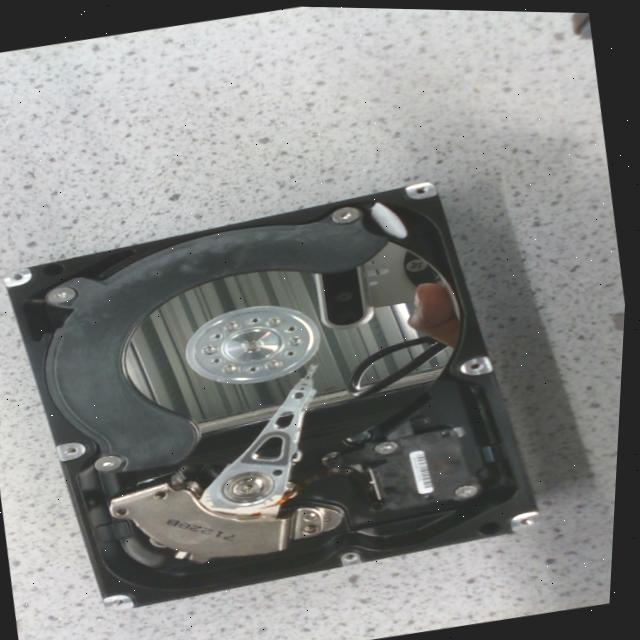actuator arm: (211, 362, 320, 511)
actuator axis: (237, 474, 268, 494)
case: (8, 177, 543, 608)
magnet: (116, 481, 295, 561)
pcb connector: (369, 425, 485, 505)
platter: (129, 239, 456, 462)
platter holder: (189, 304, 324, 381)
platter protector: (50, 218, 389, 470)
screw: (49, 286, 79, 303), (100, 453, 129, 470), (334, 204, 363, 220), (459, 482, 483, 496), (379, 438, 403, 451), (225, 362, 242, 371), (270, 358, 286, 367), (205, 343, 221, 352), (269, 314, 284, 323), (228, 319, 243, 328), (292, 334, 305, 343)
